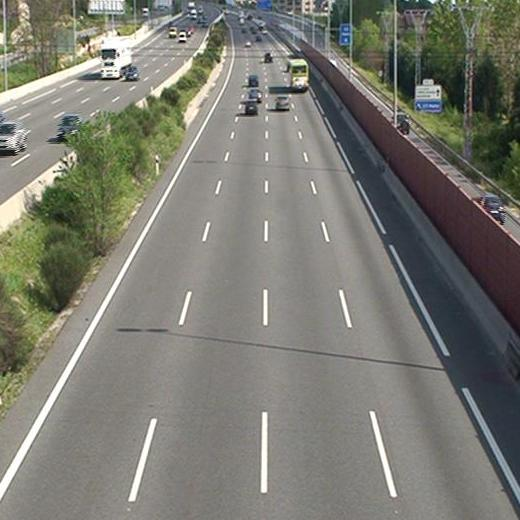bus: (289, 58, 308, 90)
car: (274, 95, 290, 111), (244, 100, 259, 115), (247, 87, 261, 99), (247, 74, 259, 87), (263, 52, 274, 63)
